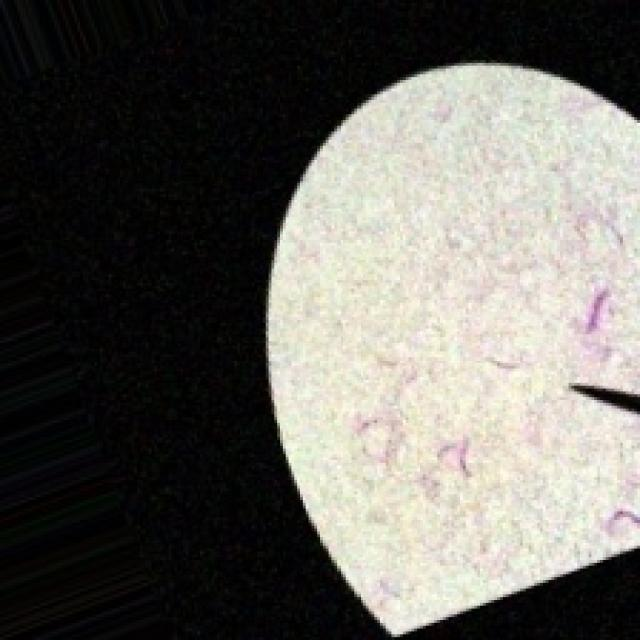Spiral_bacteria: (263, 57, 637, 637)
